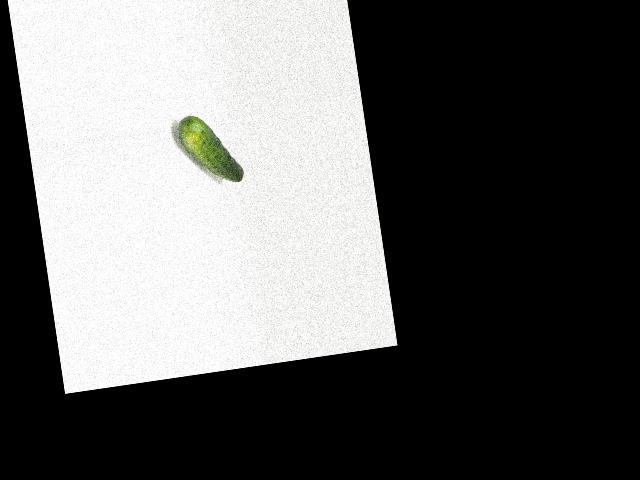cucumber: (177, 110, 244, 189)
